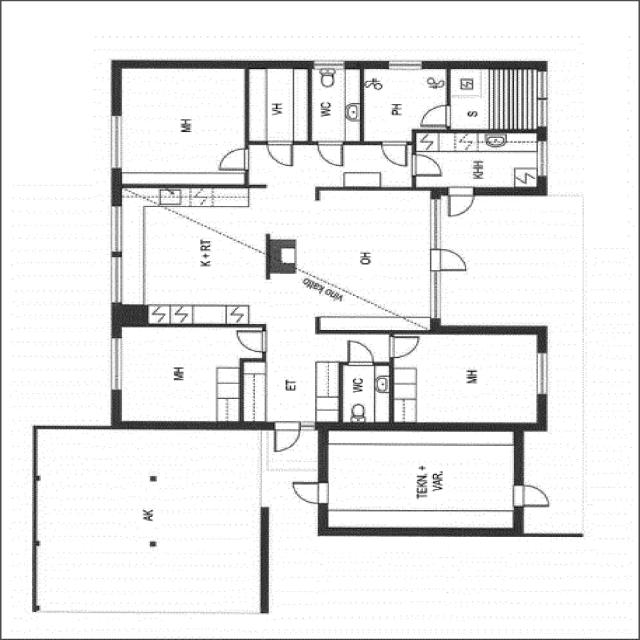door: (288, 477, 334, 507), (509, 482, 555, 510), (231, 327, 270, 355), (270, 420, 302, 454), (432, 247, 472, 274), (382, 333, 422, 360), (445, 186, 476, 218), (380, 140, 411, 169), (345, 339, 378, 366), (419, 102, 453, 128), (316, 140, 347, 168), (217, 147, 251, 171), (266, 140, 295, 168), (410, 154, 443, 176)
window: (104, 251, 128, 309), (106, 334, 128, 394), (531, 347, 554, 400), (106, 112, 127, 170), (106, 201, 128, 256), (427, 270, 446, 322), (534, 91, 552, 130), (534, 68, 551, 100), (536, 138, 550, 176), (383, 59, 427, 70), (310, 58, 348, 68), (298, 419, 318, 432)
zone: (35, 427, 264, 616), (290, 181, 434, 333), (324, 432, 518, 532), (142, 193, 268, 325), (392, 328, 544, 427), (120, 66, 246, 180), (116, 326, 257, 423), (254, 332, 340, 422), (418, 130, 540, 191), (361, 65, 449, 140), (447, 66, 546, 132), (247, 63, 310, 144), (309, 64, 361, 143), (341, 361, 392, 424), (309, 137, 352, 174)
